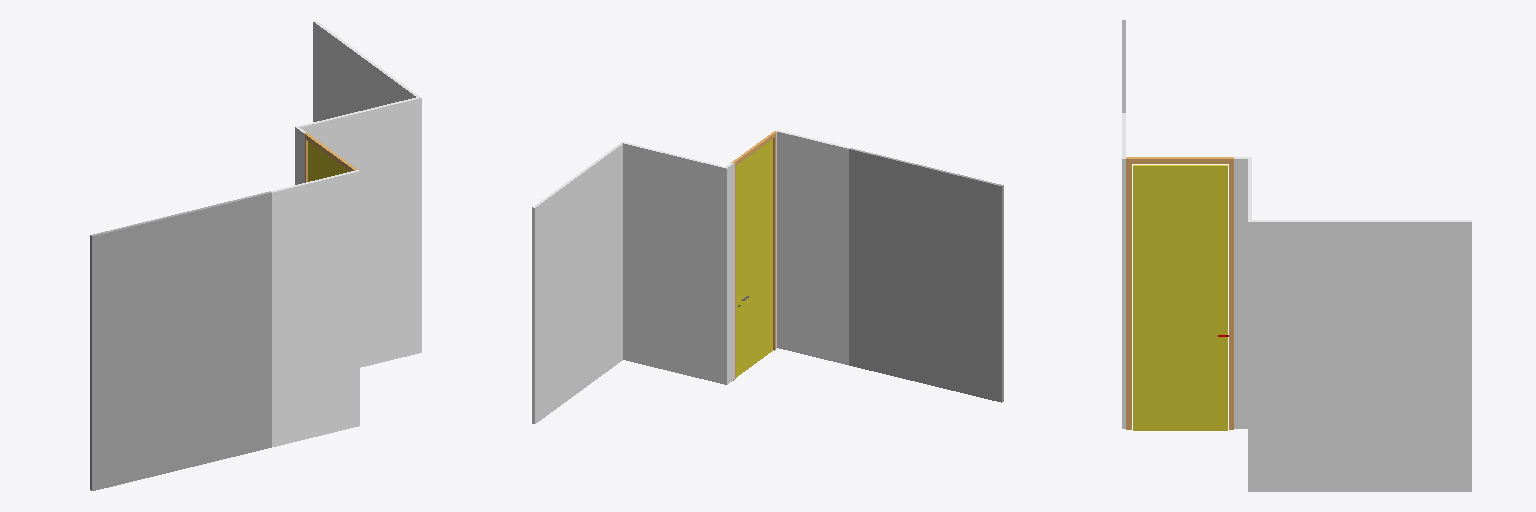
robot.urdf — partnet_LabDoorEnvironment:
<?xml version="1.0" ?>
<robot name="partnet_LabDoorEnvironment">
	<material name="door_frame_color">
		<color rgba="0.973 0.757 0.478 1.0"/>
  	</material>
  	<material name="aluminum">
    	<color rgba="0.5 0.5 0.5 1"/>
  	</material>
	<material name="silver">
    	<color rgba="0.753 0.753 0.753 1.0"/>
  	</material>
  	<material name="white">
    	<color rgba="1.0 1.0 1.0 1.0"/>
 	</material>

	<!-- base -->
	<link name="base"/>

	<!-- door frame  -->
	<joint name="joint_doorframe" type="fixed">
		<origin rpy="0 0 0" xyz="-0.395 0 0.505"/>
		<child link="link_doorframe"/>
		<parent link="base"/>
	</joint>
	<link name="link_doorframe">
		<visual name="frame_vertical_bar_left">
			<origin xyz="0 0.465 0"/>
			<geometry>
				<box size="0.035 0.05 2.69"/>
			</geometry>
			<material name="door_frame_color"/>
		</visual>
		<visual name="frame_vertical_bar_right">
			<origin xyz="0 -0.465 0"/>
			<geometry>
				<box size="0.035 0.05 2.69"/>
			</geometry>
			<material name="door_frame_color"/>
		</visual>
		<visual name="frame_horizontal_bar">
			<origin xyz="0 0 1.35"/>
			<geometry>
				<box size="0.035 0.98 0.05"/>
			</geometry>
			<material name="door_frame_color"/>
		</visual>

		<!-- wall -->
		<visual name="wall_left_1">
			<origin xyz="-0.001 0.56 0.02"/>
			<geometry>
				<box size="0.035 0.19 2.709"/>
			</geometry>
			<material name="white"/>
		</visual>
		<visual name="wall_right_1">
			<origin xyz="-0.001 -0.4975 0.02"/>
			<geometry>
				<box size="0.035 0.065 2.709"/>
			</geometry>
			<material name="white"/>
		</visual>
		<visual name="wall_left_2">
			<origin xyz="-0.001 0.56 0.02"/>
			<geometry>
				<box size="0.035 0.19 2.709"/>
			</geometry>
			<material name="white"/>
		</visual>
		<visual name="wall_right_2">
			<origin xyz="-0.001 -0.4975 0.02"/>
			<geometry>
				<box size="0.035 0.065 2.709"/>
			</geometry>
			<material name="white"/>
		</visual>
		<visual name="wall_left_3">
			<origin xyz="0.685 0.6375 0.02"/>
			<geometry>
				<box size="1.37 0.035 2.709"/>
			</geometry>
			<material name="white"/>
		</visual>
		<visual name="wall_right_3">
			<origin xyz="-0.48 -0.5125 0.02"/>
			<geometry>
				<box size="0.96 0.035 2.709"/>
			</geometry>
			<material name="white"/>
		</visual>
		<visual name="wall_left_4">
			<origin xyz="1.3525 1.655 0.02"/>
			<geometry>
				<box size="0.035 2 2.709"/>
			</geometry>
			<material name="white"/>
		</visual>
		<visual name="wall_right_4">
			<origin xyz="-1.96 -0.5125 0.02"/>
			<geometry>
				<box size="2 0.035 2.709"/>
			</geometry>
			<material name="silver"/>
		</visual>

		<collision>
			<origin xyz="0 0.465 0"/>
			<geometry>
				<box size="0.035 0.05 2.69"/>
			</geometry>
		</collision>
		<collision>
			<origin xyz="0 -0.465 0"/>
			<geometry>
				<box size="0.035 0.05 2.69"/>
			</geometry>
		</collision>
		<collision>
			<origin xyz="0 0 1.35"/>
			<geometry>
				<box size="0.035 0.98 0.05"/>
			</geometry>
		</collision>
		<collision>
			<origin xyz="-0.001 0.56 0.02"/>
			<geometry>
				<box size="0.035 0.19 2.709"/>
			</geometry>
		</collision>
		<collision>
			<origin xyz="-0.001 -0.4975 0.02"/>
			<geometry>
				<box size="0.035 0.065 2.709"/>
			</geometry>
		</collision>
		<collision>
			<origin xyz="-0.001 0.56 0.02"/>
			<geometry>
				<box size="0.035 0.19 2.709"/>
			</geometry>
		</collision>
		<collision>
			<origin xyz="-0.001 -0.4975 0.02"/>
			<geometry>
				<box size="0.035 0.065 2.709"/>
			</geometry>
		</collision>
		<collision>
			<origin xyz="0.685 0.6375 0.02"/>
			<geometry>
				<box size="1.37 0.035 2.709"/>
			</geometry>
		</collision>
		<collision>
			<origin xyz="-0.48 -0.5125 0.02"/>
			<geometry>
				<box size="0.96 0.035 2.709"/>
			</geometry>
		</collision>
		<collision>
			<origin xyz="1.3525 1.655 0.02"/>
			<geometry>
				<box size="0.035 2 2.709"/>
			</geometry>
		</collision>
		<collision>
			<origin xyz="-1.96 -0.5125 0.02"/>
			<geometry>
				<box size="2 0.035 2.709"/>
			</geometry>
		</collision>
	</link>

    <!--link_door_base_plus-->
	<joint name="joint_door_base_plus" type="fixed">
		<origin rpy="1.570796326794897 0 -1.570796326794897" xyz="0 0 0"/>
		<child link="link_door_base_plus"/>
		<parent link="base"/>
	</joint>
	<link name="link_door_base_plus">
	</link>

    <!-- door rotation shaft -->
	<joint name="joint_rotation_shaft" type="revolute">
		<origin xyz="0.44 1.35 0.3754050304999294"/>
		<axis xyz="0 1 0"/>
		<child link="link_door"/>
		<parent link="link_door_base_plus"/>
		<limit lower="0.0" upper="1.6022122533307945"/>
	</joint>

	<!-- door -->
	<link name="link_door">
		<inertial>
			<mass value="2"/>
			<inertia ixx="0.001" ixy="0.0" ixz="0.0" iyy="0.001" iyz="0.0" izz="0.001"/>
		</inertial>
		<visual name="door_surface">
			<origin xyz="-0.44 0 -0.3754050304999294"/>
			<geometry>
				<mesh filename="textured_objs/original-36.obj" scale="1.07 2.6 1.0"/>
			</geometry>
		</visual>
		<visual name="fake_handle">
			<origin xyz="0.3990322923139692 0.8448920249938966 -0.3754050304999294"/>
			<geometry>
				<mesh filename="textured_objs/original-38.obj" scale="0.0001 0.0001 0.0001"/>
			</geometry>
		</visual>
		<collision>
			<origin xyz="-0.44 0 -0.3754050304999294"/>
			<geometry>
				<mesh filename="textured_objs/original-36.obj" scale="1.07 2.6 1.0"/>
			</geometry>
		</collision>
		<!-- <collision>
			<origin xyz="-0.44 0 -0.3754050304999294"/>
			<geometry>
				<mesh filename="textured_objs/original-38.obj" scale="0.0001 0.0001 0.0001"/>
			</geometry>
		</collision> -->
	</link>

    <!-- door lock -->
	<joint name="joint_lock_base" type="fixed">
		<origin rpy="0 0 0" xyz="-0.83 -1.217 0"/>
		<child link="link_lock_base"/>
		<parent link="link_door"/>
	</joint>
	<link name="link_lock_base">
		<visual name="door_lock_base_big">
			<origin rpy="0 0 0 " xyz="0 0 0.025"/>
			<geometry>
				<capsule radius="0.025" length="0.005"/>
			</geometry>
			<material name="aluminum"/>
		</visual>
		<visual name="door_lock_base_small">
			<origin rpy="0 0 0 " xyz="0 0 0.0515"/>
			<geometry>
				<capsule radius="0.0175" length="0.063"/>
			</geometry>
			<material name="aluminum"/>
		</visual>
		<visual name="door_cylinder_big_1">
			<origin rpy="0 0 0 " xyz="0 -0.075 0.025"/>
			<geometry>
				<capsule radius="0.025" length="0.005"/>
			</geometry>
			<material name="aluminum"/>
		</visual>
		<visual name="door_cylinder_small_1">
			<origin rpy="0 0 0 " xyz="0 -0.075 0.0515"/>
			<geometry>
				<box size="0.028 0.015 0.015"/>
			</geometry>
			<material name="aluminum"/>
		</visual>
		<visual name="door_cylinder_big_2">
			<origin rpy="0 0 0 " xyz="0 -0.94 0.025"/>
			<geometry>
				<capsule radius="0.025" length="0.005"/>
			</geometry>
			<material name="aluminum"/>
		</visual>
		<visual name="door_cylinder_small_2">
			<origin rpy="0 0 0 " xyz="0 -0.94 0.0515"/>
			<geometry>
				<capsule radius="0.0175" length="0.04"/>
			</geometry>
			<material name="aluminum"/>
		</visual>
		<visual name="door_right_shaft_1">
			<origin rpy="1.570796326794897 0 0 " xyz="0.82 -0.73 0.01"/>
			<geometry>
				<capsule radius="0.005" length="0.1"/>
			</geometry>
			<material name="aluminum"/>
		</visual>
		<visual name="door_right_shaft_2">
			<origin rpy="1.570796326794897 0 0 " xyz="0.82 0.79 0.02"/>
			<geometry>
				<capsule radius="0.005" length="0.1"/>
			</geometry>
			<material name="aluminum"/>
		</visual>
		<visual name="door_right_shaft_3">
			<origin rpy="1.570796326794897 0 0 " xyz="0.82 1.41 0.03"/>
			<geometry>
				<capsule radius="0.005" length="0.1"/>
			</geometry>
			<material name="aluminum"/>
		</visual>

		<collision>
			<origin rpy="0 0 0 " xyz="0 0 0.025"/>
			<geometry>
				<capsule radius="0.025" length="0.005"/>
			</geometry>
		</collision>
		<collision>
			<origin rpy="0 0 0 " xyz="0 0 0.0515"/>
			<geometry>
				<capsule radius="0.0175" length="0.063"/>
			</geometry>
		</collision>
		<collision>
			<origin rpy="0 0 0 " xyz="0 -0.075 0.025"/>
			<geometry>
				<capsule radius="0.025" length="0.005"/>
			</geometry>
		</collision>
		<collision>
			<origin rpy="0 0 0 " xyz="0 -0.075 0.0515"/>
			<geometry>
				<box size="0.028 0.015 0.015"/>
			</geometry>
		</collision>
		<collision>
			<origin rpy="0 0 0 " xyz="0 -0.94 0.025"/>
			<geometry>
				<capsule radius="0.025" length="0.005"/>
			</geometry>
		</collision>
		<collision>
			<origin rpy="0 0 0 " xyz="0 -0.94 0.0515"/>
			<geometry>
				<capsule radius="0.0175" length="0.04"/>
			</geometry>
		</collision>
		<collision>
			<origin rpy="1.570796326794897 0 0 " xyz="0.82 -0.73 0.01"/>
			<geometry>
				<capsule radius="0.005" length="0.1"/>
			</geometry>
		</collision>
		<collision>
			<origin rpy="1.570796326794897 0 0 " xyz="0.82 0.79 0.02"/>
			<geometry>
				<capsule radius="0.005" length="0.1"/>
			</geometry>
		</collision>
		<collision>
			<origin rpy="1.570796326794897 0 0 " xyz="0.82 1.41 0.03"/>
			<geometry>
				<capsule radius="0.005" length="0.1"/>
			</geometry>
		</collision>
	</link>

    <!-- lock and switch -->
	<joint name="joint_lock_switch" type="revolute">
		<origin xyz="0 0 0.093" rpy="0 0 0"/>
		<axis xyz="0 0 -1"/>
		<child link="link_switch_and_lock"/>
		<parent link="link_lock_base"/>
		<!-- angle 0-30 -->
		<!-- <limit lower="-0.0" upper="0.523598775598299"/> -->
		<limit lower="0.0" upper="1.57" />
	</joint>
    <link name="link_switch_and_lock">
		<visual name="switch">
			<origin xyz="0.0675 0 0"/>
			<geometry>
				<box size="0.135 0.015 0.02"/>
			</geometry>
			<material name="aluminum"/>
		</visual>
		<visual name="lock_bar">
			<origin xyz="0 0 -0.16" rpy="0 1.570796326794897 0"/>
			<geometry>
				<box size="0.02 0.02 0.10"/>
				<!-- <box size="0.01 0.01 0.01" /> -->
			</geometry>
			<material name="red">
				<color rgba="1.0 0.0 0.0 1.0" />
			</material>
		</visual>
		<collision>
			<origin xyz="0.0675 0 0"/>
			<geometry>
				<box size="0.135 0.015 0.02"/>
			</geometry>
		</collision>
		<collision>
			<origin xyz="0 0 -0.16" rpy="0 1.570796326794897 0"/>
			<!-- <origin xyz="0 0 -0.2" rpy="0 1.57 0" /> -->
			<geometry>
				<box size="0.02 0.02 0.10"/>
				<!-- <box size="0.01 0.01 0.01" /> -->
			</geometry>
		</collision>
	</link>
</robot>

--- Facts derived from the render (not from the file) ---
The picture shows the robot from 3 angles, left to right: view 1: azimuth 30°, elevation 25°; view 2: azimuth 150°, elevation 25°; view 3: azimuth 270°, elevation 25°; orthographic projection.
Model partnet_LabDoorEnvironment with 6 links and 5 joints (2 revolute, 3 fixed), rooted at base, posed every joint at zero.
Links seen in each view (by area): view 1: link_doorframe, link_door; view 2: link_doorframe, link_door; view 3: link_doorframe, link_door.
Boxes of the visible links, x1,y1,x2,y2 form: link_doorframe: (90, 21, 421, 490); link_door: (308, 141, 349, 181); link_doorframe: (532, 130, 1003, 423); link_door: (736, 139, 772, 377); link_doorframe: (1122, 20, 1471, 491); link_door: (1133, 165, 1227, 430).
Bounding box of the posed robot: 4.33 × 3.49 × 3.04 m (x, y, z).
Meshes: 2 distinct files referenced, 2 mesh visuals loaded (2 OBJ).